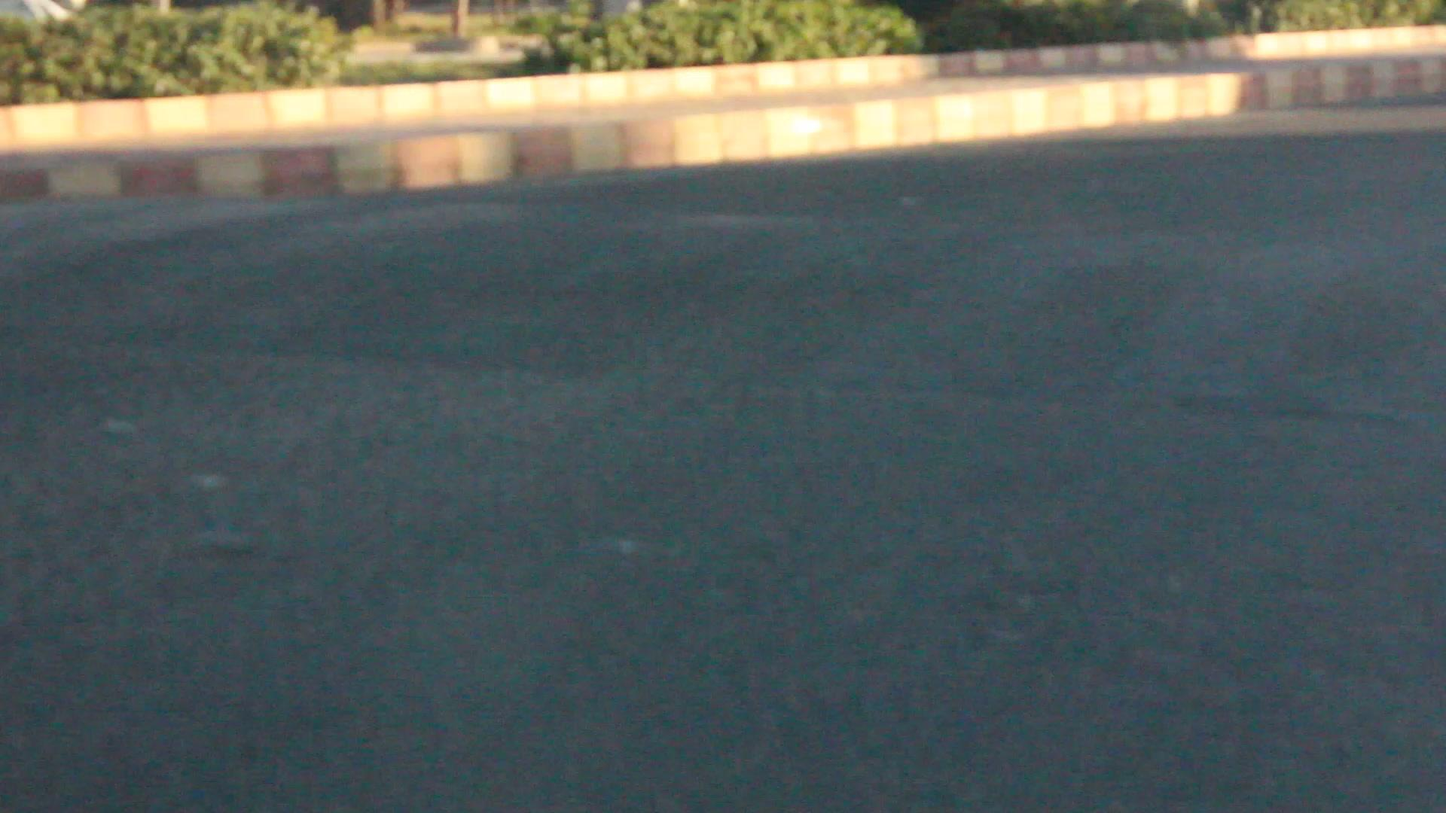Bump: (0, 190, 1445, 425)
